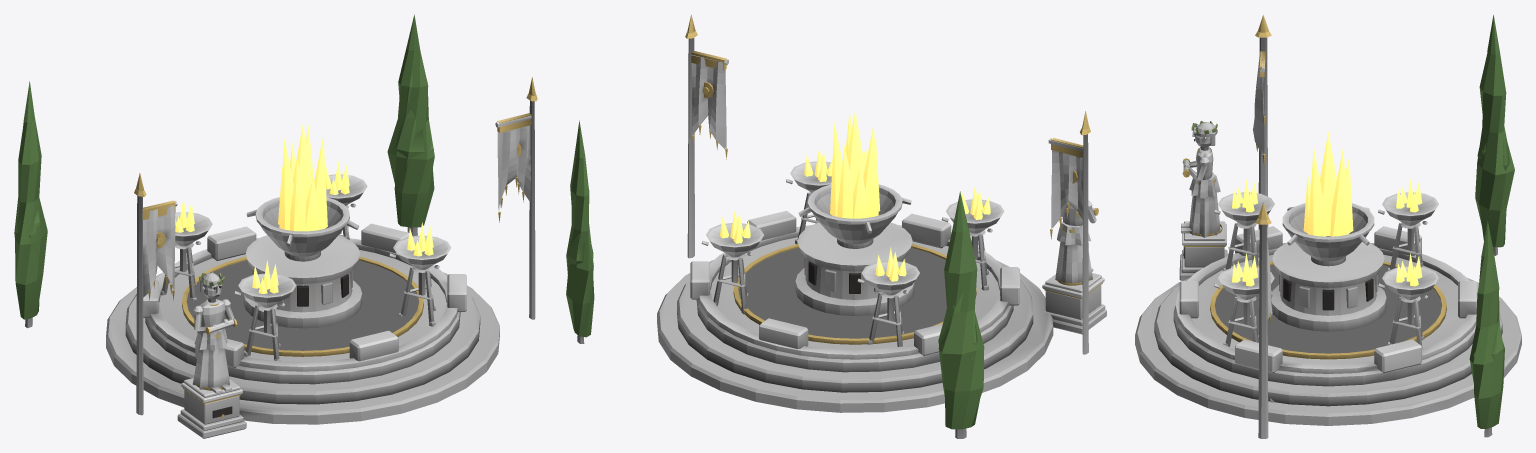
The model's file is sacred-fire-l1.glb.
The picture shows the model from 3 angles, left to right: view 1: azimuth 30°, elevation 25°; view 2: azimuth 150°, elevation 25°; view 3: azimuth 270°, elevation 25°; orthographic projection. The views are drawn at different scales.
Visible parts, largest first — view 1: sacred-fire-l1; view 2: sacred-fire-l1; view 3: sacred-fire-l1.
Part boxes in pixels (<box>): sacred-fire-l1: <box>14,14,537,438</box>; sacred-fire-l1: <box>566,14,1106,438</box>; sacred-fire-l1: <box>1135,15,1521,438</box>.
Bounding box in the file's own units: 1.48 × 0.8369 × 1.22.
